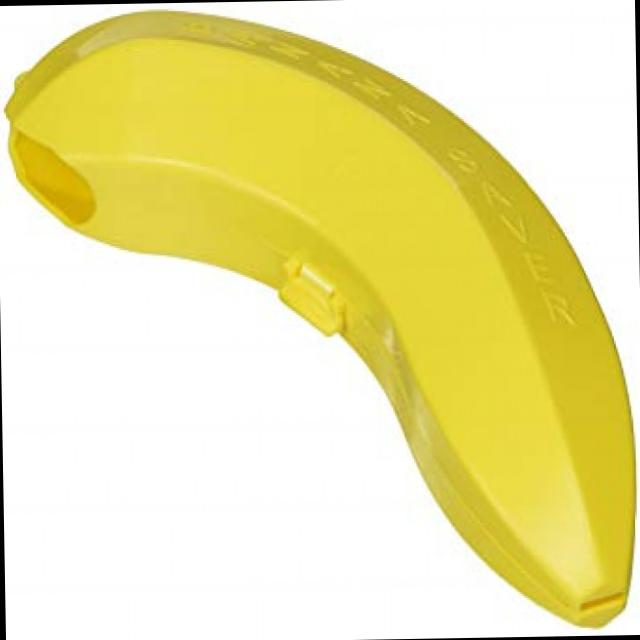banana: (0, 1, 631, 637)
